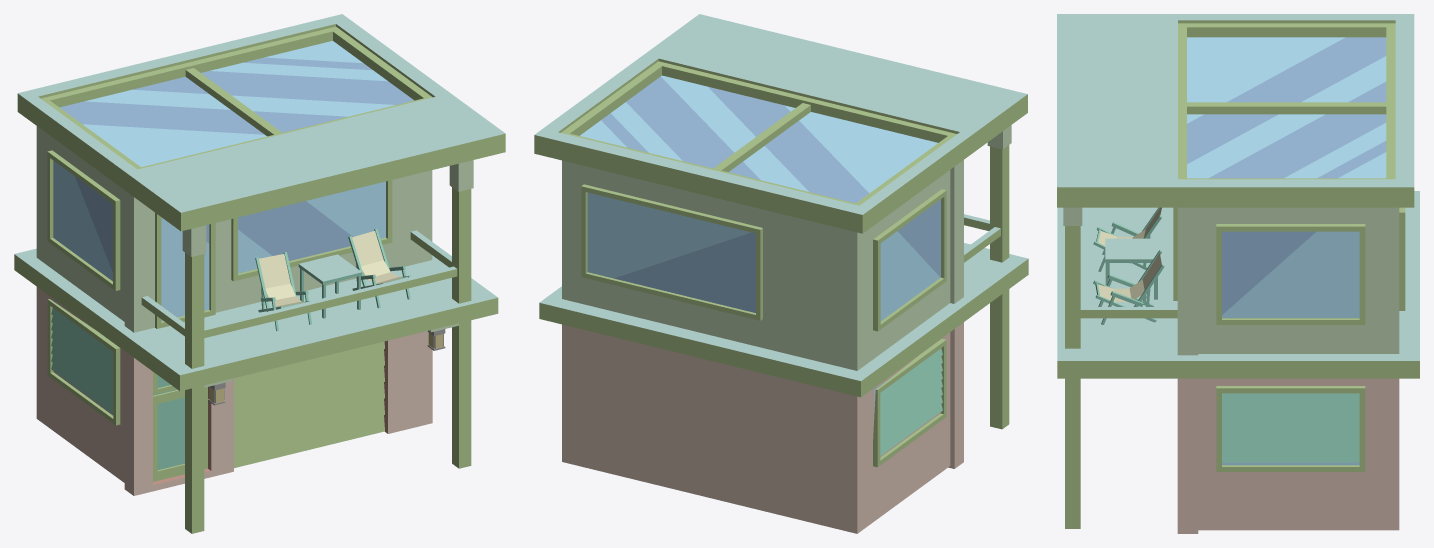
File: cottage_003.fbx
3 renders of one model, left to right at view 1: azimuth 30°, elevation 25°; view 2: azimuth 150°, elevation 25°; view 3: azimuth 270°, elevation 25°, orthographic. The views are drawn at different scales.
Visible parts, largest first — view 1: cottage_003; view 2: cottage_003; view 3: cottage_003.
Boxes of the visible parts, bbox=[...] form: cottage_003: bbox=[14, 14, 505, 533]; cottage_003: bbox=[534, 14, 1028, 533]; cottage_003: bbox=[1057, 14, 1419, 533].
Bounding box in the file's own units: 641 × 616 × 566.
